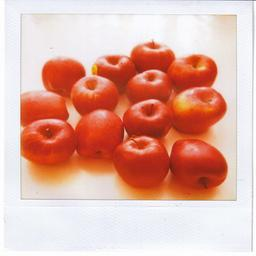apple: (171, 138, 228, 188), (115, 136, 170, 186), (21, 119, 76, 164), (74, 109, 124, 158), (175, 86, 226, 132), (71, 75, 119, 114), (123, 99, 173, 136), (168, 54, 218, 89), (42, 57, 87, 94), (91, 54, 137, 88), (127, 69, 172, 103), (20, 91, 69, 121), (131, 42, 176, 71)
